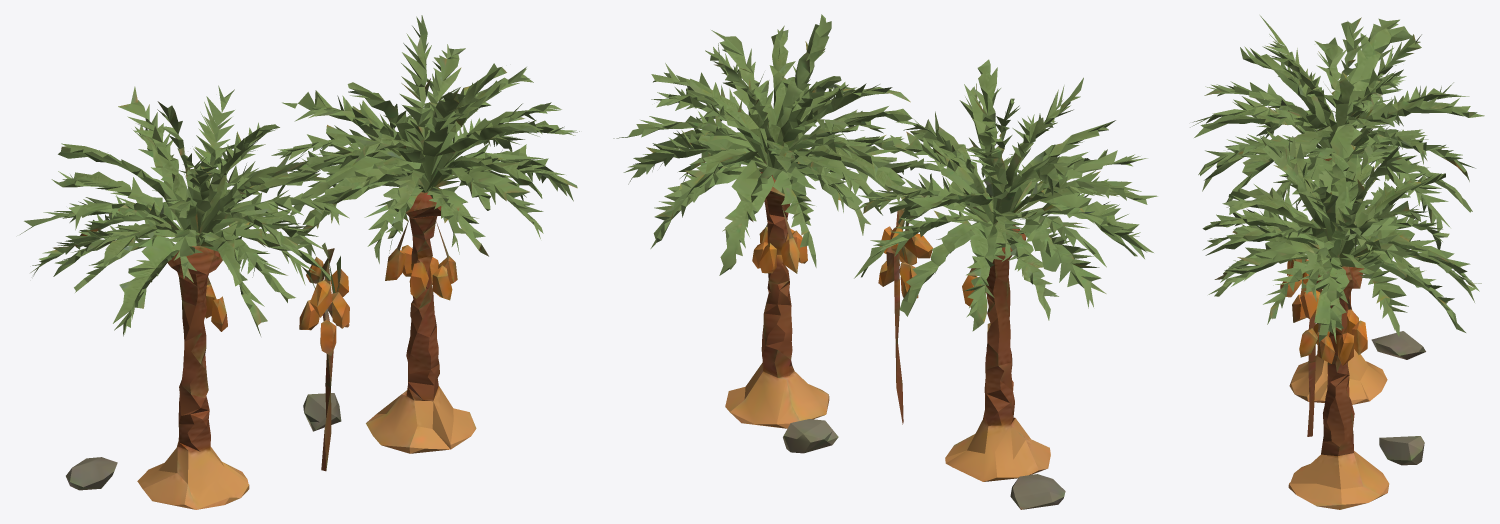
Rendered from palms.glb.
3 views of the same model, side by side, from view 1: azimuth 30°, elevation 25°; view 2: azimuth 150°, elevation 25°; view 3: azimuth 270°, elevation 25° (orthographic). The views are drawn at different scales.
Size of the model in its own units: 1.88 by 1.34 by 1.01.
1 material, 1 textured.
